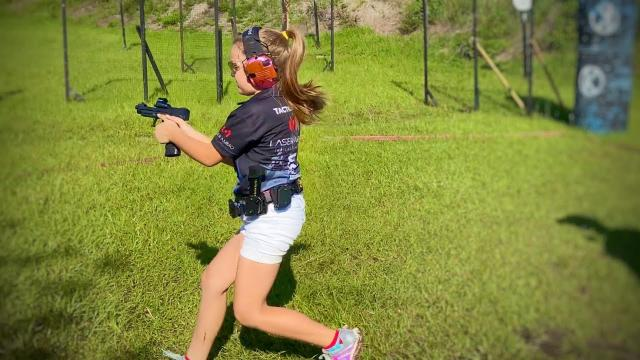handgun: (134, 96, 192, 162)
